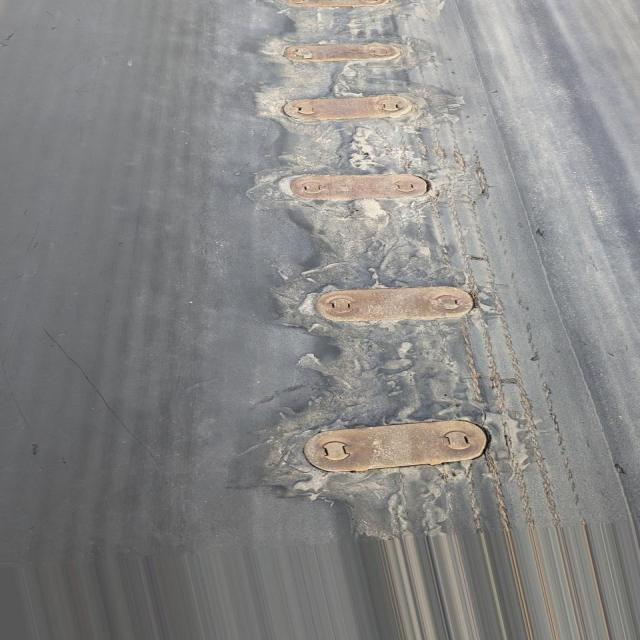patch work: (251, 0, 535, 549)
